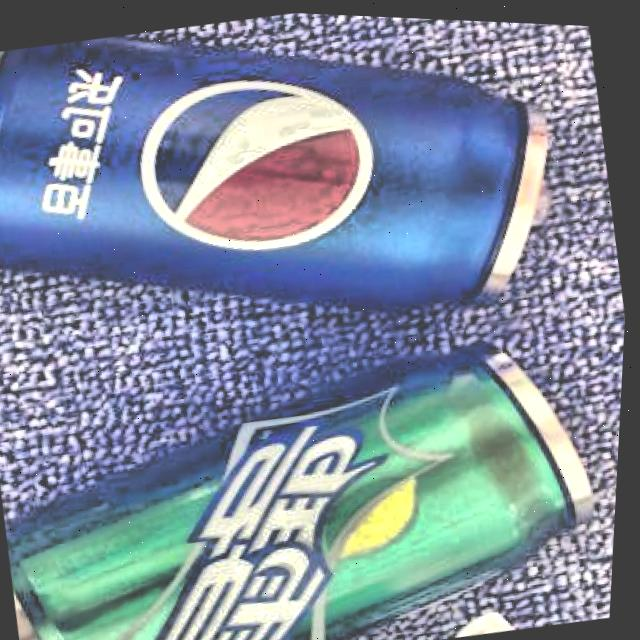metal: (0, 0, 595, 406), (0, 304, 628, 640)
